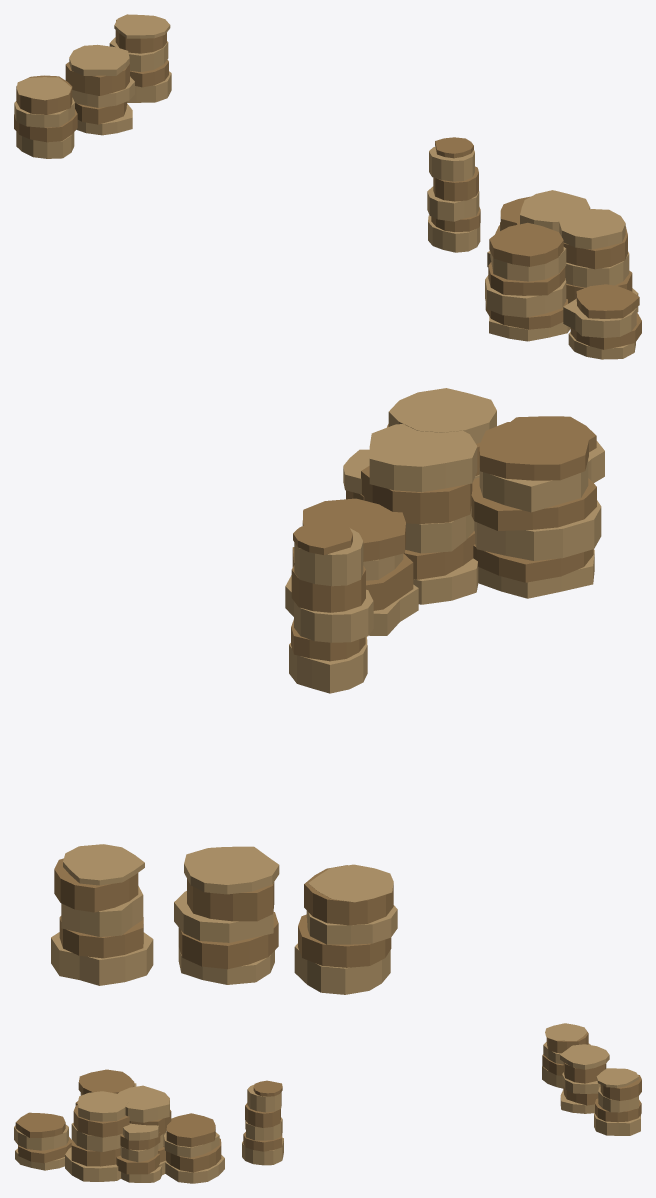
The model's file is MesasW.fbx.
3 renders of one model, top to bottom at view 1: azimuth 30°, elevation 25°; view 2: azimuth 150°, elevation 25°; view 3: azimuth 270°, elevation 25°, orthographic. The views are drawn at different scales.
Parts seen in each view (by area): view 1: MesaW0_0.001; view 2: MesaW0_0.001; view 3: MesaW0_0.001.
Part boxes in pixels (x1,y1,x2,y2): MesaW0_0.001: (14, 14, 641, 359); MesaW0_0.001: (51, 388, 604, 994); MesaW0_0.001: (14, 1023, 641, 1183).
Size of the model in its own units: 27201 by 7776 by 62412.
